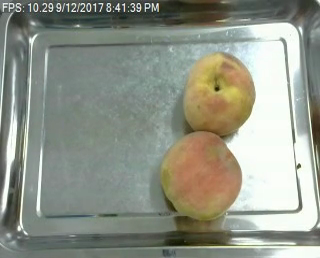Peach: (160, 131, 243, 219), (181, 52, 254, 136)
